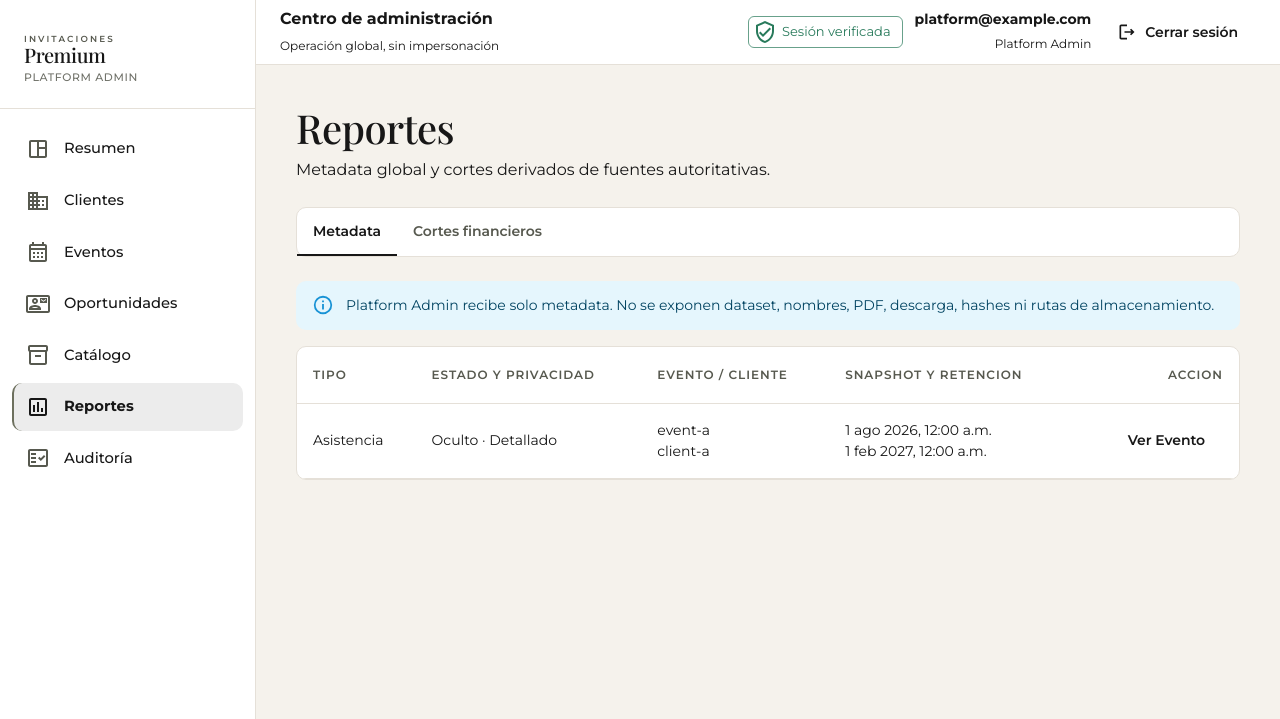
Test: reportes administrativos › presenta estados, privacidad y campos exactos de cortes sin datos nominales
expect the text "Oculto · Detallado" is shown: met, box 416,403 -> 641,478
Click the tab "Cortes financieros" at (477, 232), box 397,208 -> 558,256
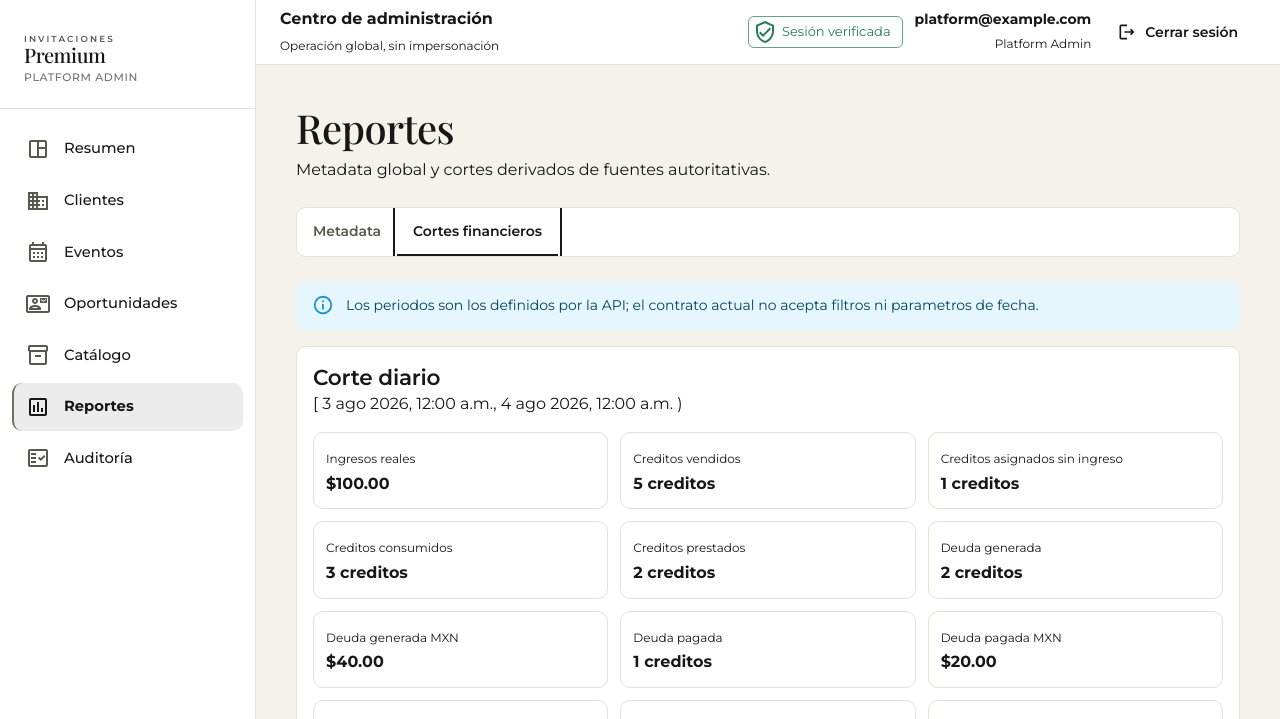
expect the text "Ingresos reales" is shown 2 times: met
expect the text "$100.00" is shown: met, box 326,474 -> 390,493
expect the text "5 creditos" is shown: met, box 633,474 -> 715,493
